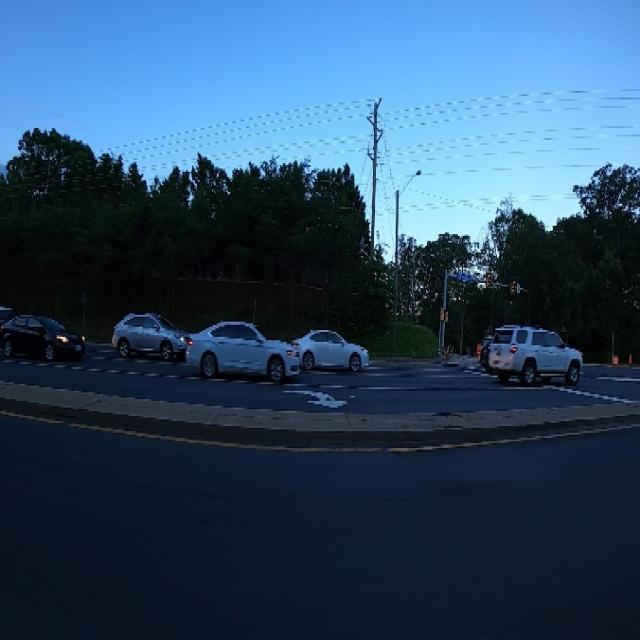cars: (187, 316, 298, 392), (490, 319, 588, 392), (112, 294, 190, 369), (3, 310, 86, 368), (290, 323, 369, 374), (480, 326, 509, 381)
